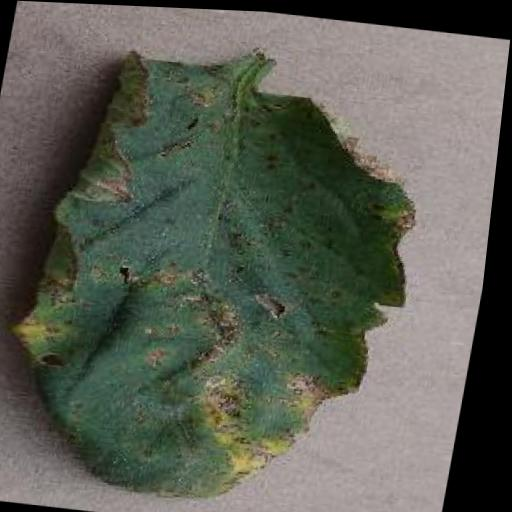Bacterial Spot: (0, 34, 461, 512)
